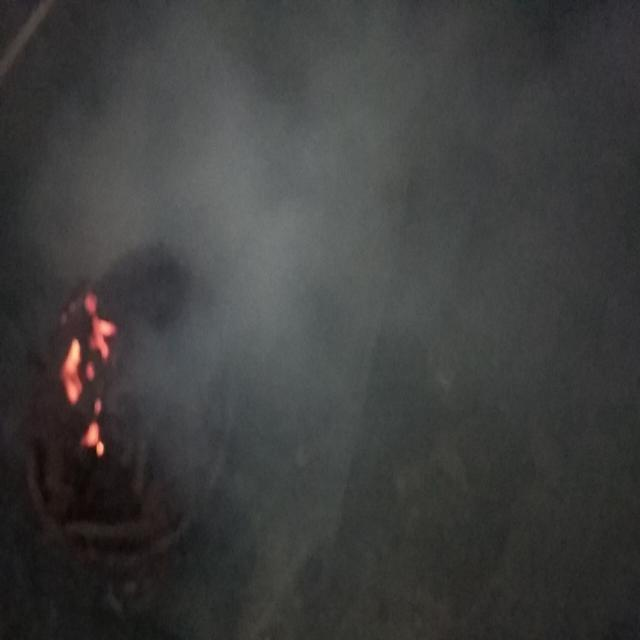Fire: (51, 278, 116, 448)
Smoke: (118, 0, 640, 640), (35, 77, 117, 279), (0, 278, 51, 468)
